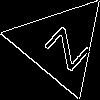Z: (35, 19, 92, 73)
